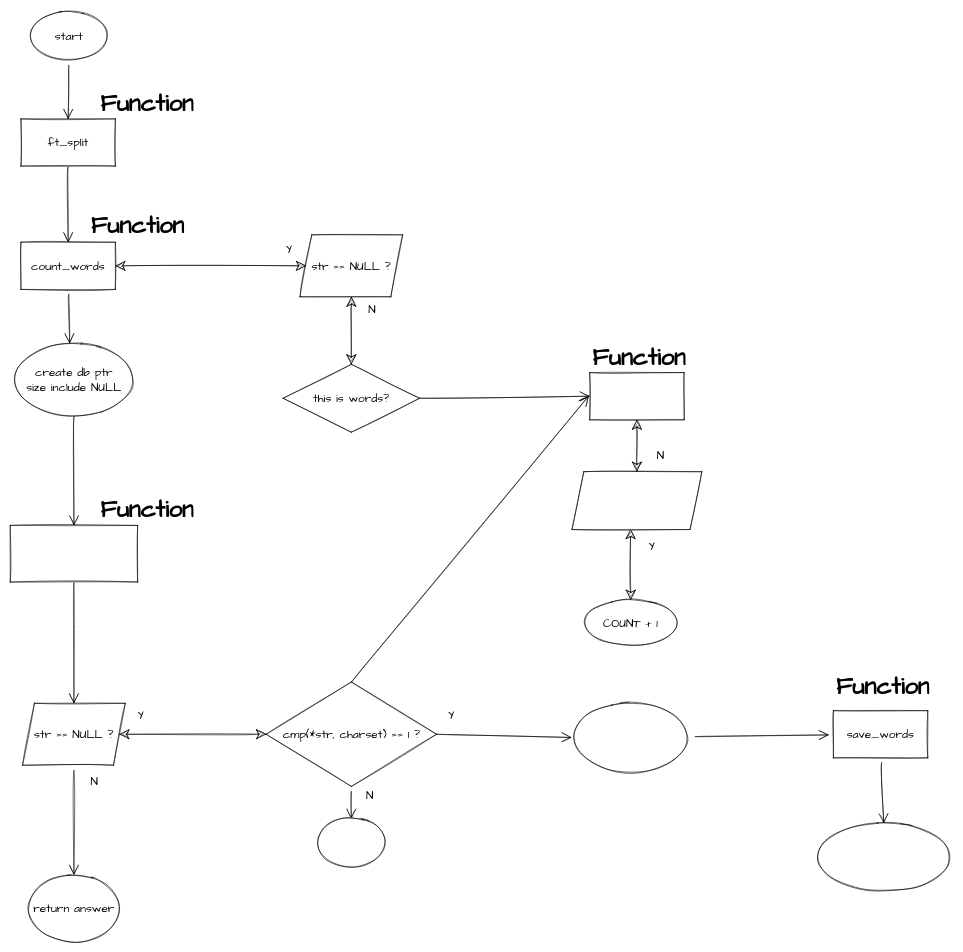
The diagram is 963 pixels wide and 952 high, and some of its shapes have lost their labels. Each missing label, with the centre of its shape:
"charset == NULL ?" belongs at point (636, 500).
"cmp_words" belongs at point (636, 396).
"copy str into answer" belongs at point (883, 857).
"create ptr size include NULL" belongs at point (630, 737).
"idx++" belongs at point (351, 842).
"separate_words" belongs at point (74, 553).
